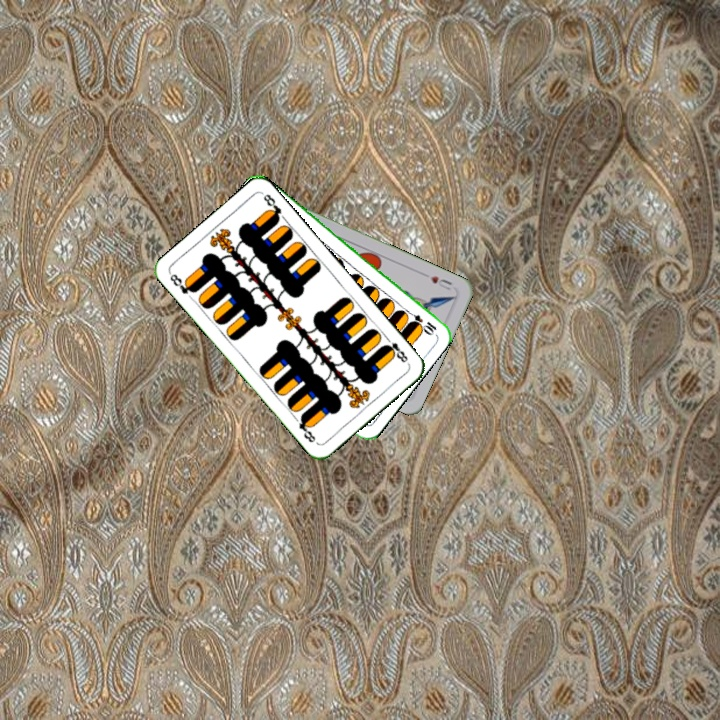E10: (403, 306, 439, 336)
E8: (380, 333, 410, 365), (166, 270, 199, 297)
HU: (426, 272, 455, 294)
